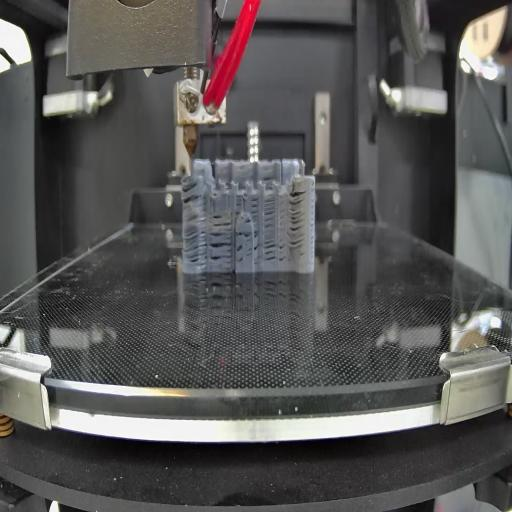cracks: (288, 190, 307, 249), (182, 230, 206, 264), (235, 231, 259, 263), (210, 231, 233, 261), (182, 181, 202, 205), (263, 199, 277, 229), (264, 240, 277, 264), (212, 214, 233, 228), (279, 196, 287, 231), (311, 183, 314, 260), (186, 214, 208, 224), (250, 198, 260, 220), (278, 240, 286, 263), (236, 196, 242, 218), (200, 198, 208, 212), (262, 175, 275, 182), (212, 192, 219, 200), (244, 219, 251, 224)
